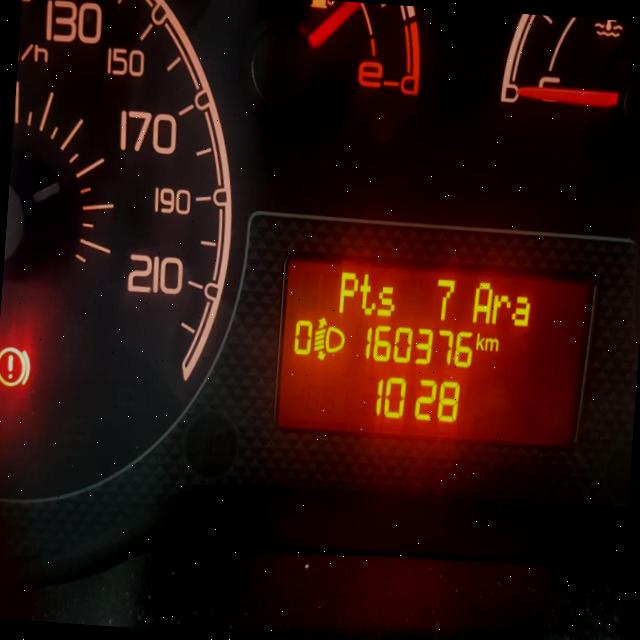odometer: (267, 242, 604, 456)
